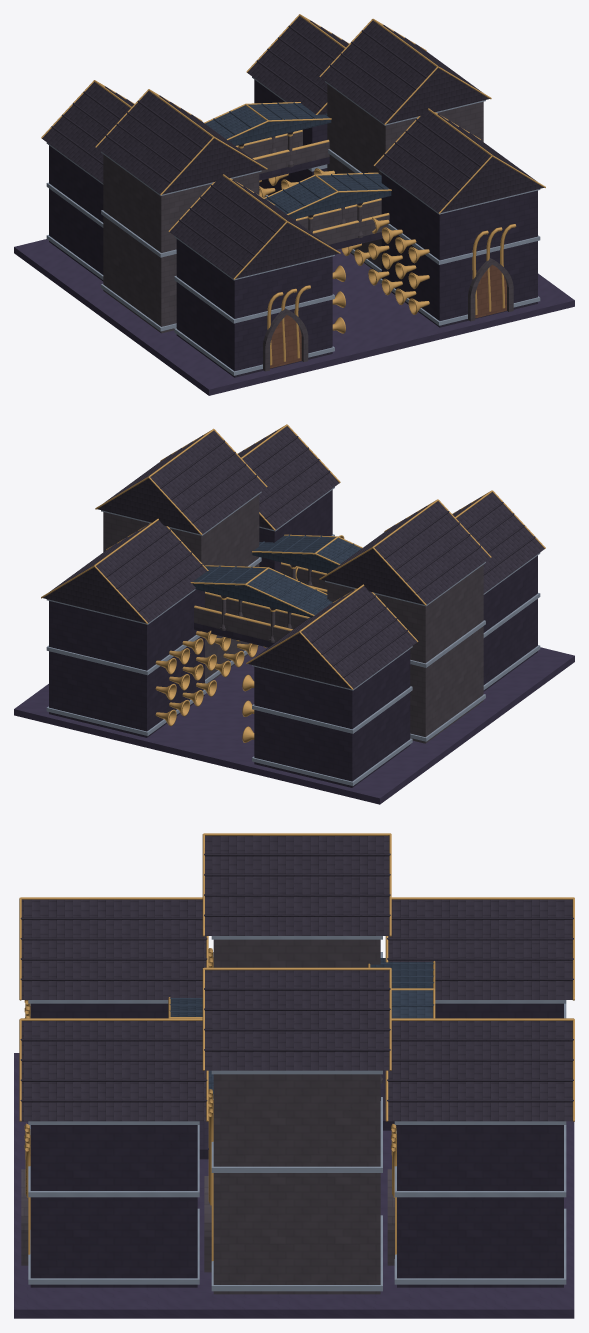
Rendered from whispertube-tenements.glb.
The picture shows the model from 3 angles, top to bottom: view 1: azimuth 30°, elevation 25°; view 2: azimuth 150°, elevation 25°; view 3: azimuth 270°, elevation 25°; orthographic projection. The views are drawn at different scales.
Size of the model in its own units: 20.15 by 11.02 by 18.62.
Materials: 9 (9 with a texture image).
